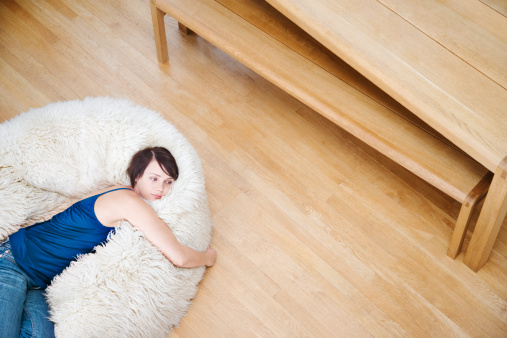deitado: (0, 114, 193, 338)
